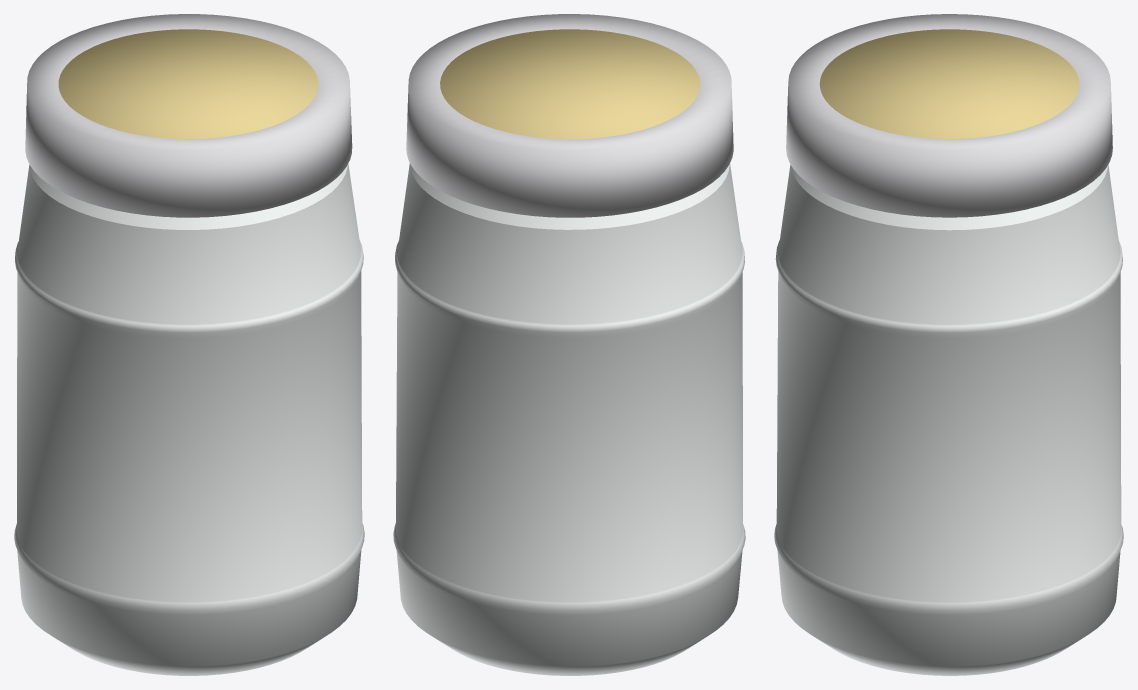
The model's file is bottle_mason.glb.
The picture shows the model from 3 angles, left to right: view 1: azimuth 30°, elevation 25°; view 2: azimuth 150°, elevation 25°; view 3: azimuth 270°, elevation 25°; orthographic projection.
Visible parts, largest first — view 1: Glass, Cap; view 2: Glass, Cap; view 3: Glass, Cap.
Boxes of the visible parts, x1,y1,x2,y2 form: Glass: (14,164,364,675); Cap: (25,14,352,217); Glass: (393,163,745,675); Cap: (406,14,733,217); Glass: (774,164,1123,675); Cap: (786,14,1112,217).
Size of the model in its own units: 0.0784 by 0.1313 by 0.0779.
